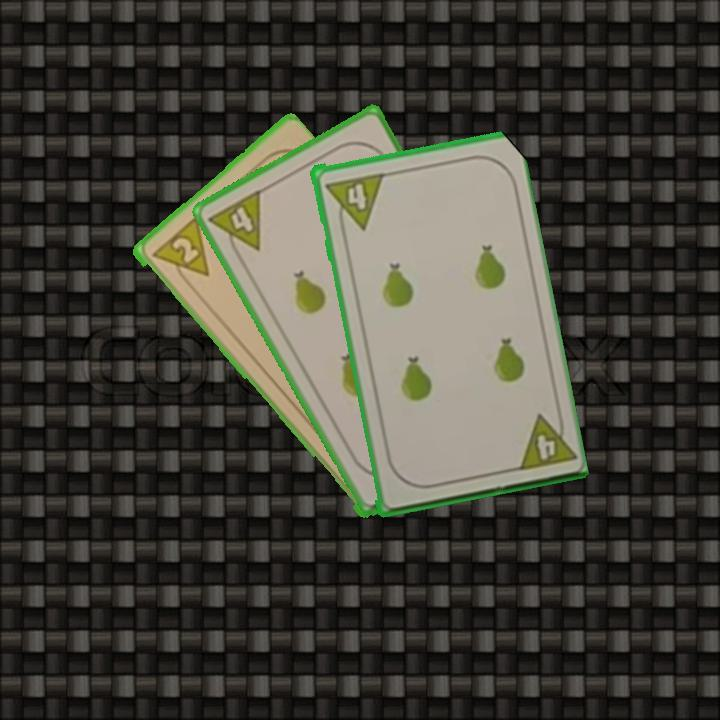2p: (147, 214, 212, 291)
4p: (205, 186, 264, 263), (511, 406, 576, 474), (320, 169, 386, 235)
